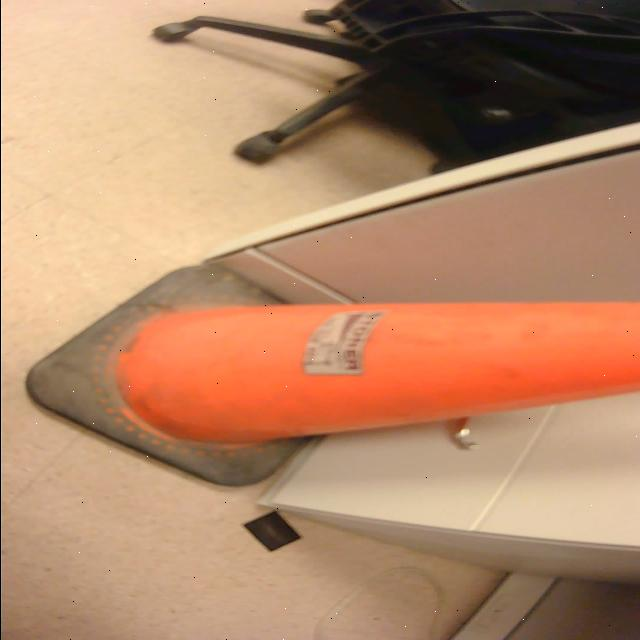traffic cone: (16, 259, 640, 496)
